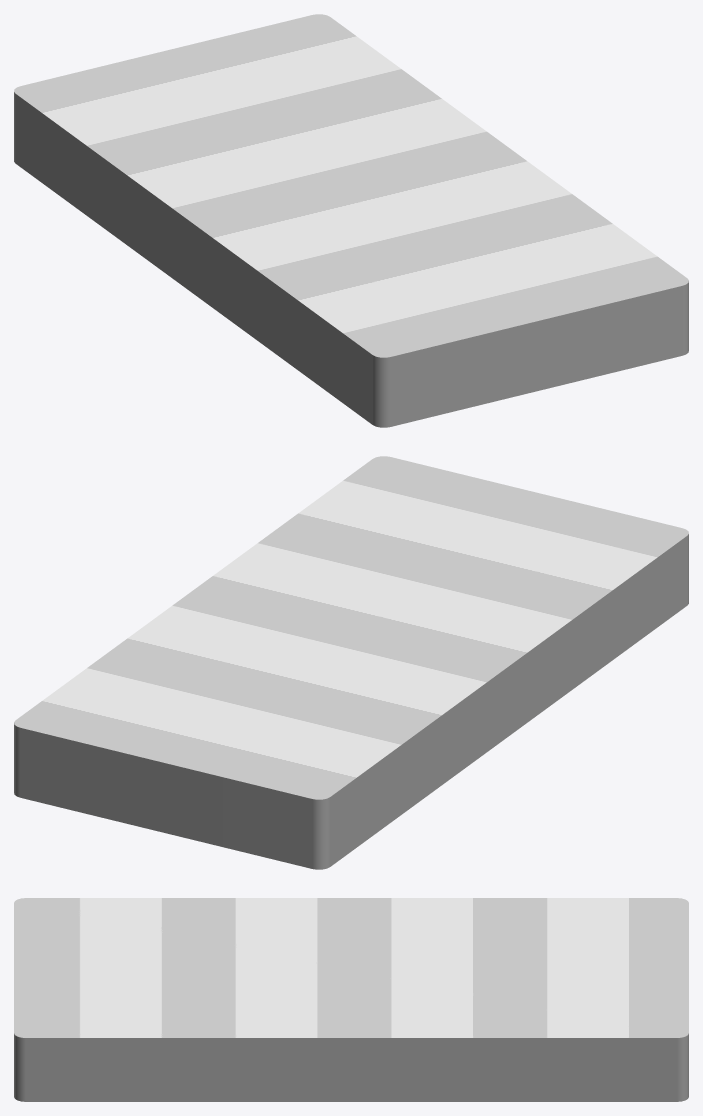
The model's file is Track.fbx.
3 renders of one model, top to bottom at view 1: azimuth 30°, elevation 25°; view 2: azimuth 150°, elevation 25°; view 3: azimuth 270°, elevation 25°, orthographic. The views are drawn at different scales.
Visible parts, largest first — view 1: Track; view 2: Track; view 3: Track.
Part boxes in pixels (left/top/right/bottom): Track: left=14, top=14, right=688, bottom=427; Track: left=14, top=456, right=688, bottom=869; Track: left=14, top=898, right=688, bottom=1101.
Bounding box in the file's own units: 9.1 × 1.93 × 18.54.
Materials: 1 (1 with a texture image).
